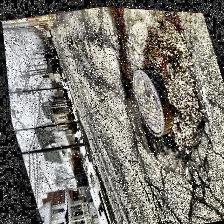pothole: (125, 14, 223, 166), (94, 5, 149, 101), (136, 119, 162, 156)
